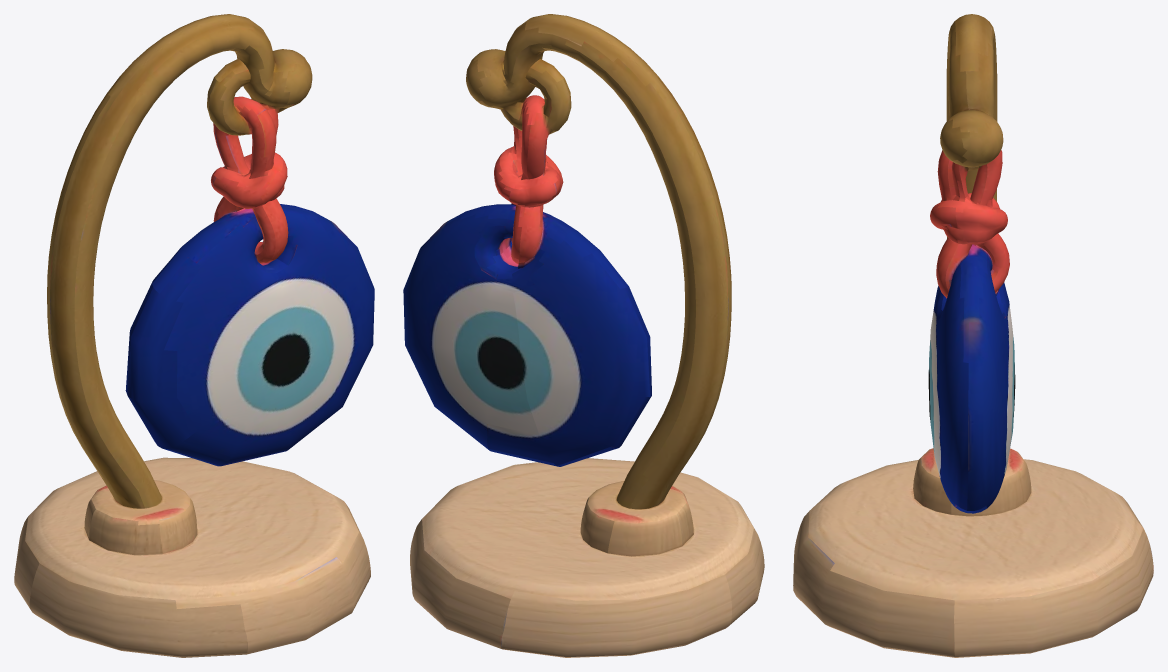
File: nazar.glb
The picture shows the model from 3 angles, left to right: view 1: azimuth 30°, elevation 25°; view 2: azimuth 150°, elevation 25°; view 3: azimuth 270°, elevation 25°; orthographic projection.
Visible parts, largest first — view 1: Mesh0; view 2: Mesh0; view 3: Mesh0.
Part boxes in pixels (x1,y1,x2,y2): Mesh0: [14, 14, 374, 657]; Mesh0: [403, 14, 764, 657]; Mesh0: [793, 14, 1153, 657].
Size of the model in its own units: 1.18 by 1.9 by 1.09.
Materials: 1 (1 with a texture image).
